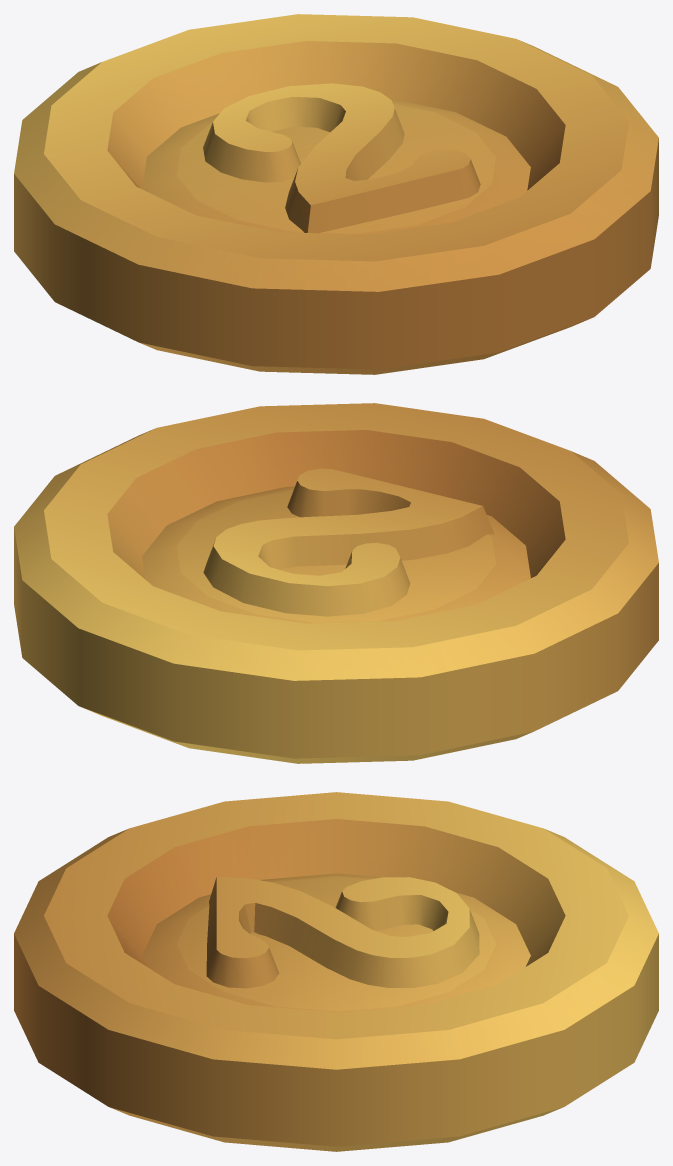
File: k_CoinGold.glb
The picture shows the model from 3 angles, top to bottom: view 1: azimuth 30°, elevation 25°; view 2: azimuth 150°, elevation 25°; view 3: azimuth 270°, elevation 25°; orthographic projection.
Visible parts, largest first — view 1: coin_2_gold; view 2: coin_2_gold; view 3: coin_2_gold.
Part boxes in pixels (x1,y1,x2,y2): coin_2_gold: (14, 14, 658, 374); coin_2_gold: (14, 403, 658, 763); coin_2_gold: (14, 792, 658, 1151).
Size of the model in its own units: 1.04 by 0.2 by 1.04.
Materials: 1 (1 with a texture image).
